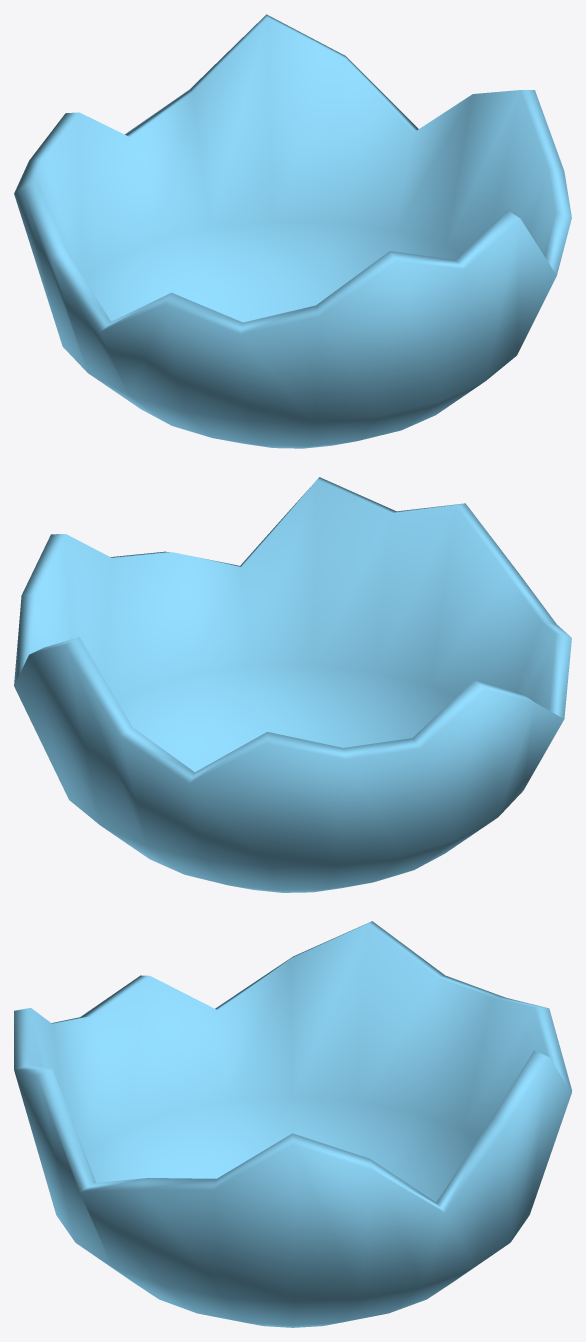
Rendered from BrokenFlaskRoundLower.fbx.
3 views of the same model, one above another, from view 1: azimuth 30°, elevation 25°; view 2: azimuth 150°, elevation 25°; view 3: azimuth 270°, elevation 25° (orthographic).
Visible parts, largest first — view 1: BrokenFlaskRoundLower; view 2: BrokenFlaskRoundLower; view 3: BrokenFlaskRoundLower.
Part boxes in pixels (left/top/right/bottom): BrokenFlaskRoundLower: left=14, top=14, right=571, bottom=448; BrokenFlaskRoundLower: left=14, top=477, right=571, bottom=892; BrokenFlaskRoundLower: left=14, top=921, right=571, bottom=1327.
Bounding box in the file's own units: 40.7 × 23.19 × 40.25.
